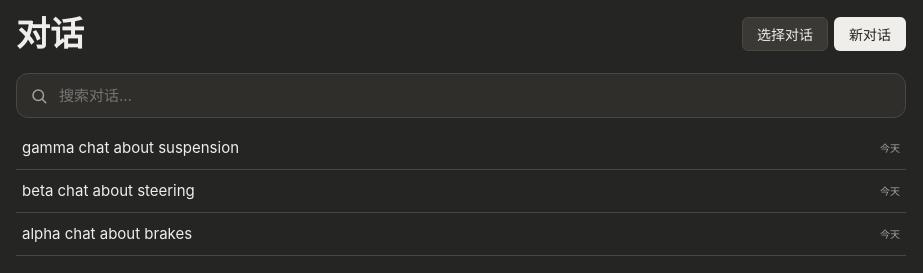
Test: ChatsPage › lists all chats and filters by search
Check: the number of elements with class "chats-row" is 3, box top-left (16, 127), bottom-right (906, 170); top-left (16, 170), bottom-right (906, 213); top-left (16, 213), bottom-right (906, 256)
Type "steering" into the field with class "chats-search" at (461, 96), box top-left (16, 73), bottom-right (906, 118)
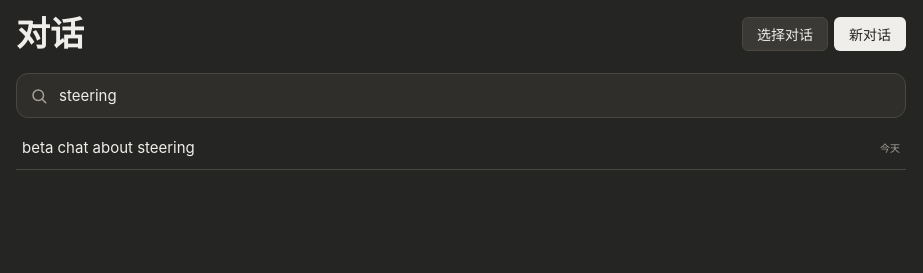
Check: the element with class "chats-row" shows "beta chat about steering", box top-left (22, 138), bottom-right (195, 157)
Check: the number of elements with class "chats-row" is 1, box top-left (16, 127), bottom-right (906, 170)
